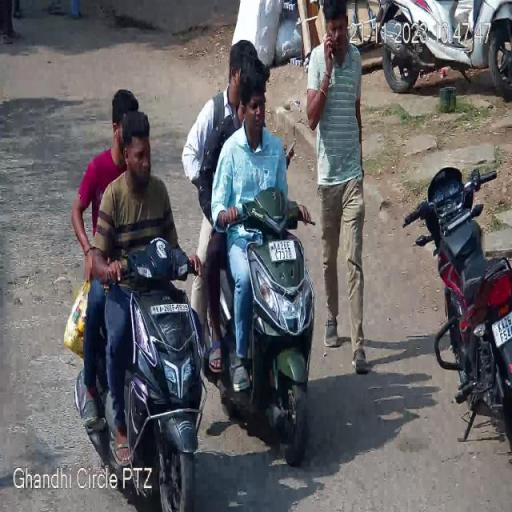tripple riding: (178, 37, 316, 238)
